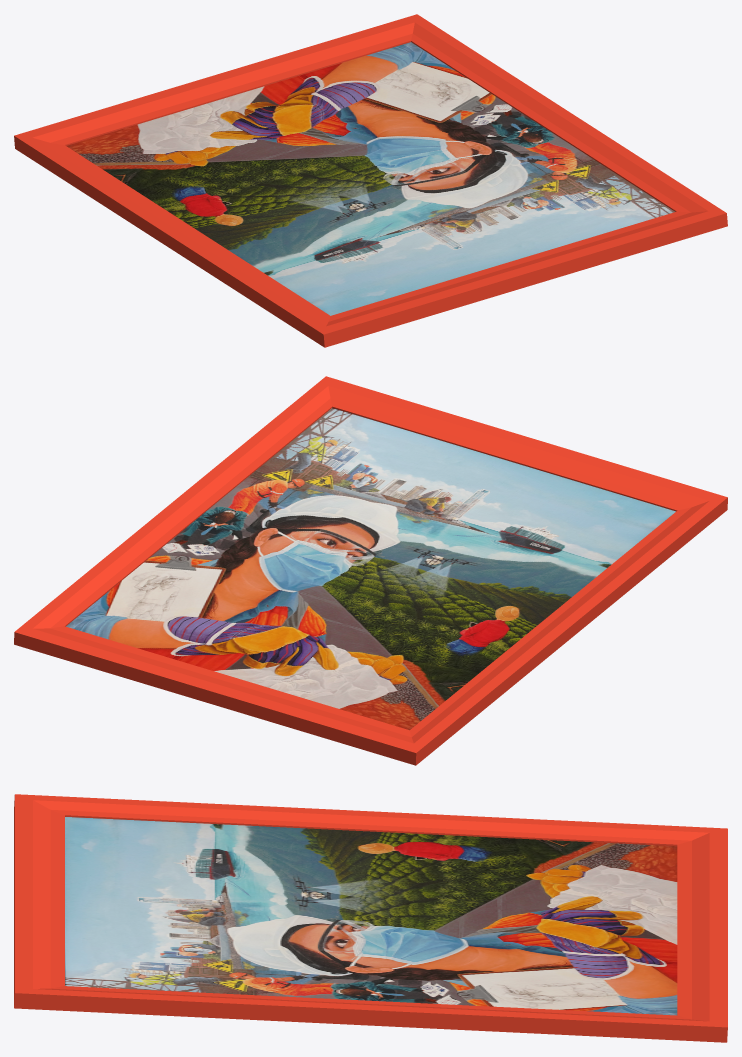
The model's file is Pinturas 3.obj.
3 renders of one model, top to bottom at view 1: azimuth 30°, elevation 25°; view 2: azimuth 150°, elevation 25°; view 3: azimuth 270°, elevation 25°, orthographic. The views are drawn at different scales.
Parts seen in each view (by area): view 1: Lienzo_Cube.001, Marco_Cube; view 2: Lienzo_Cube.001, Marco_Cube; view 3: Lienzo_Cube.001, Marco_Cube.
Part boxes in pixels (<box>): Lienzo_Cube.001: <box>66,42,674,315</box>; Marco_Cube: <box>14,14,727,347</box>; Lienzo_Cube.001: <box>66,408,675,730</box>; Marco_Cube: <box>14,376,727,765</box>; Lienzo_Cube.001: <box>65,817,677,1015</box>; Marco_Cube: <box>14,794,727,1042</box>.
Size of the model in its own units: 4.03 by 0.6217 by 5.37.
